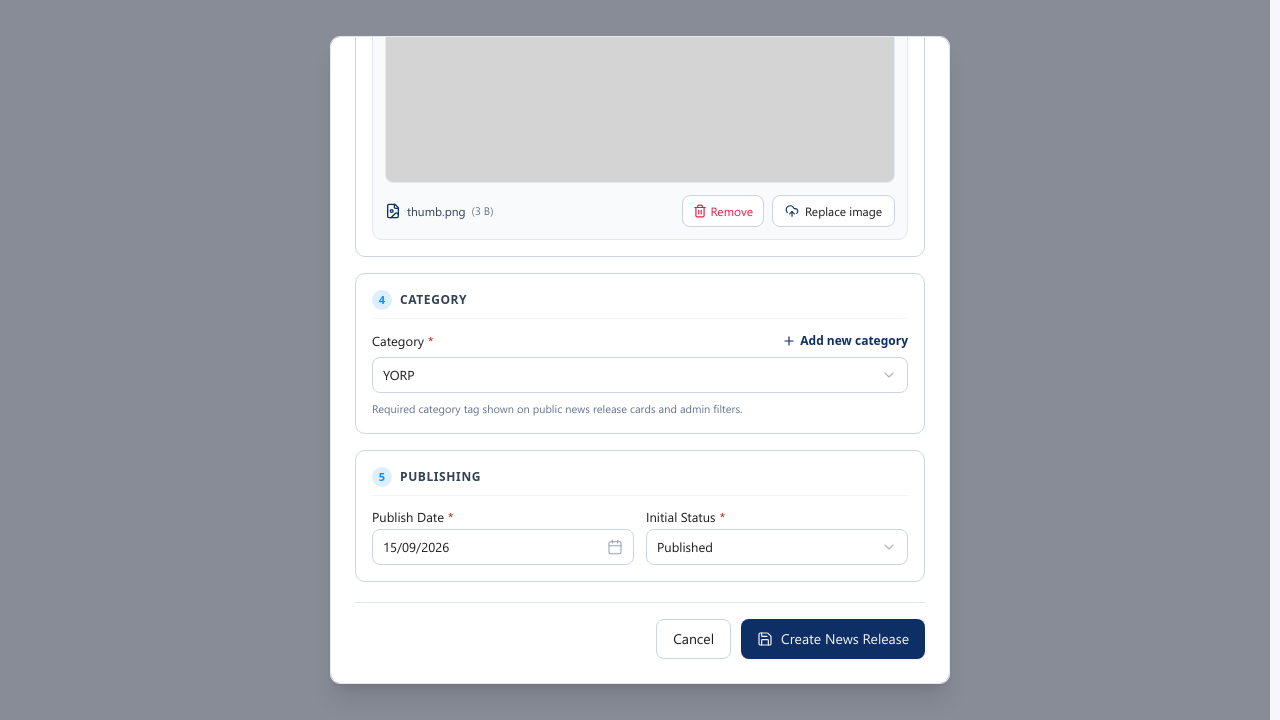
Scenario: News Release Form — 22 Verification Tests › 6. preserves form state and stays open when save or upload throws an error
(page scrolled)
Click the button "Create News Release": coordinates (833, 639) [741, 619, 925, 659]
(page scrolled)
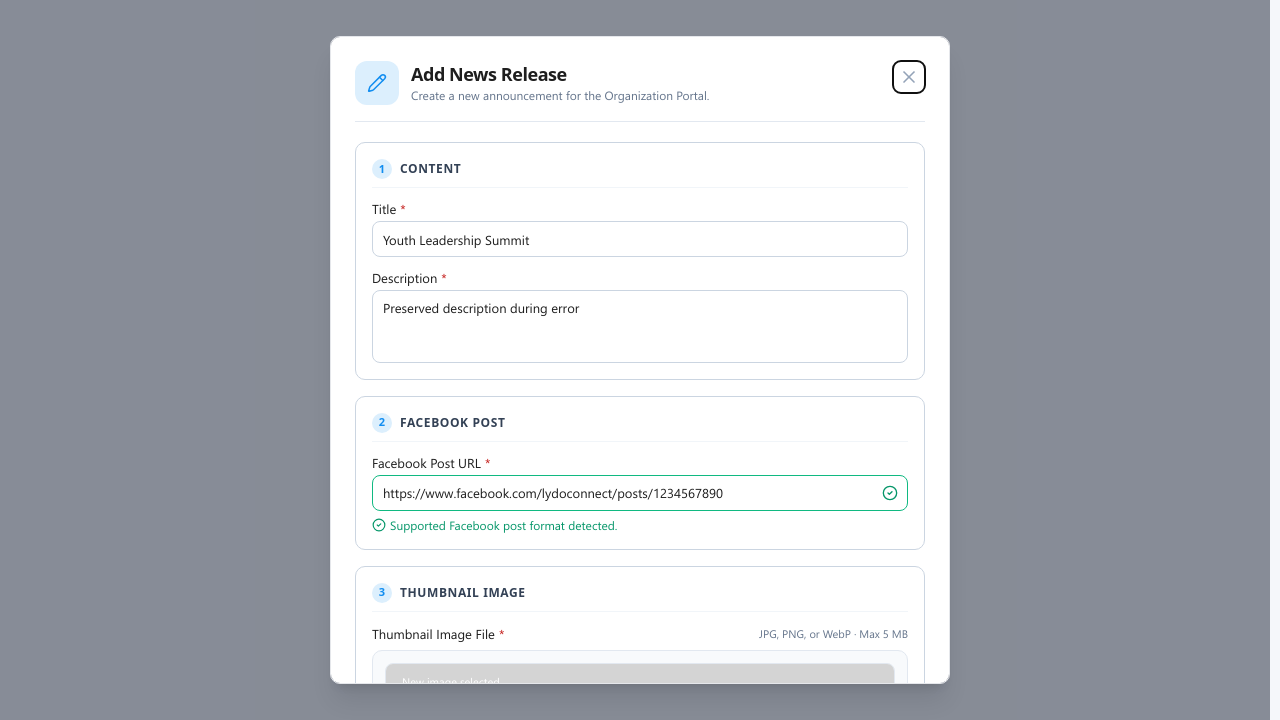
Expected: the field showing "Youth Leadership Summit" is shown, [372, 221, 908, 257]
Expected: the text box showing "Preserved description during error" is shown, [372, 290, 908, 363]
